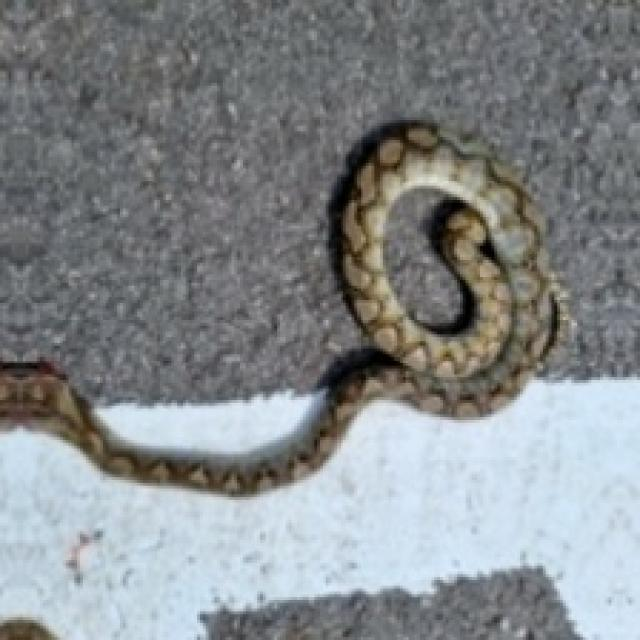reticulated python: (0, 123, 569, 497)
